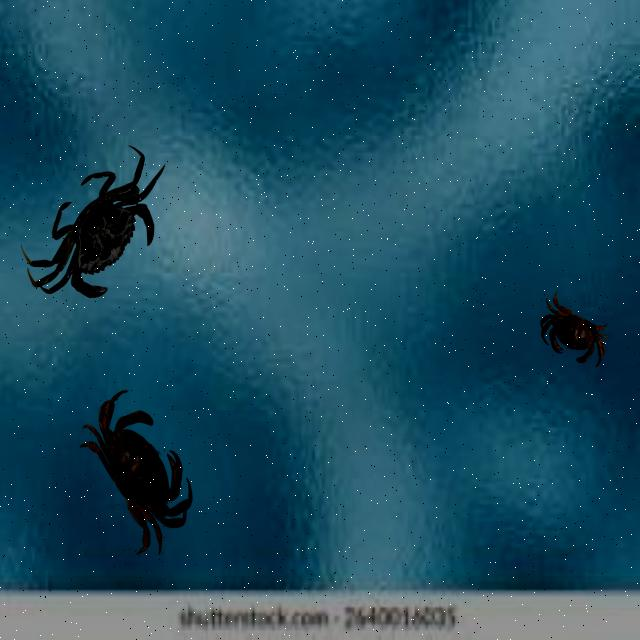European_Green_Crab: (12, 122, 191, 336)
